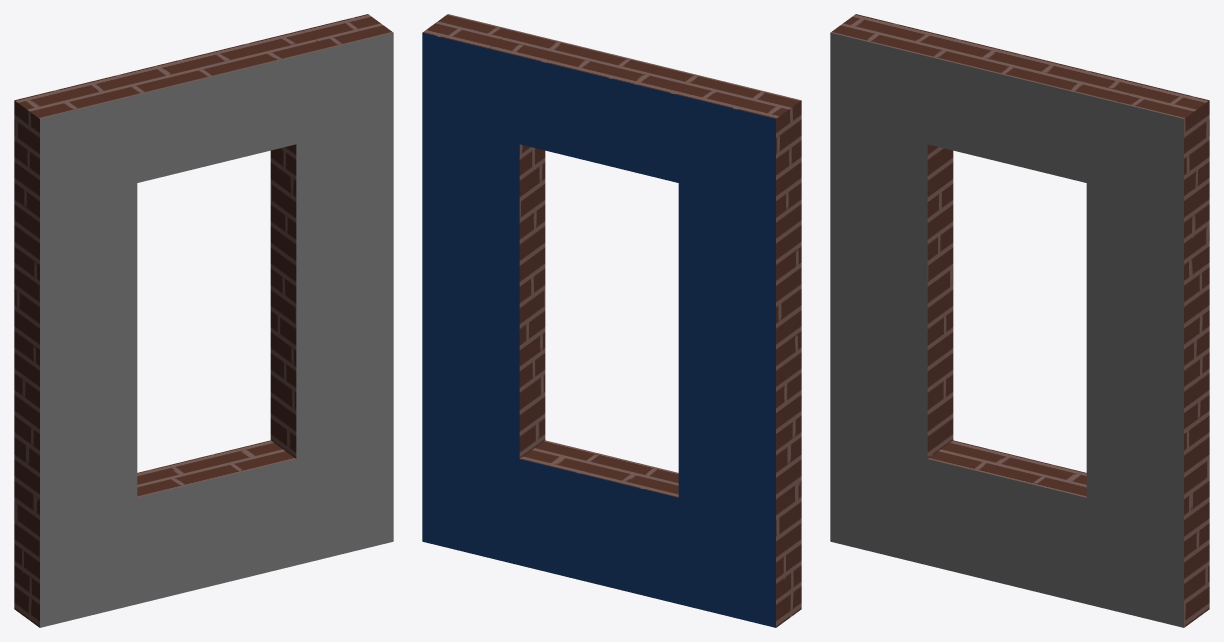
Rendered from wall3_4x5.5.FBX.
The picture shows the model from 3 angles, left to right: view 1: azimuth 30°, elevation 25°; view 2: azimuth 150°, elevation 25°; view 3: azimuth 330°, elevation 25°; orthographic projection.
Parts seen in each view (by area): view 1: wall3_4x5.5; view 2: wall3_4x5.5; view 3: wall3_4x5.5.
Boxes of the visible parts, <box> form: wall3_4x5.5: <box>14,14,393,627</box>; wall3_4x5.5: <box>422,14,801,627</box>; wall3_4x5.5: <box>830,14,1209,627</box>.
Size of the model in its own units: 400 by 50 by 550.
Materials: 3 (1 with a texture image).
